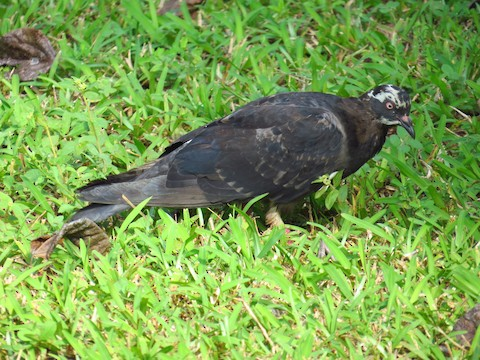pigeon: (48, 81, 419, 264)
